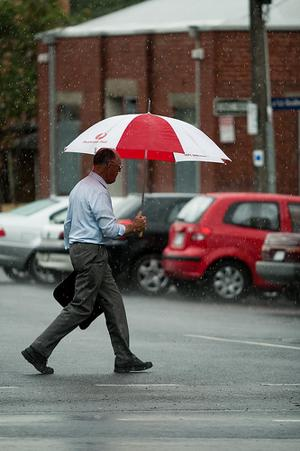person: (21, 148, 153, 375)
